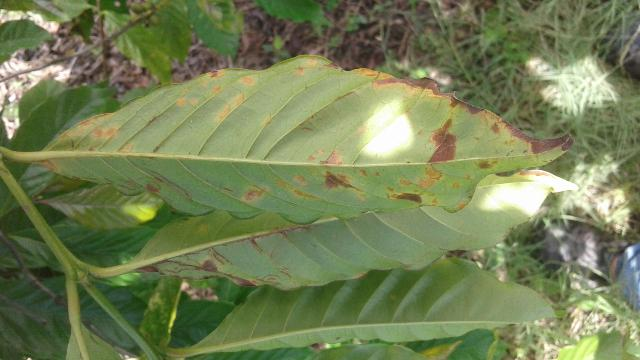rust_level_2: (40, 57, 575, 225)
